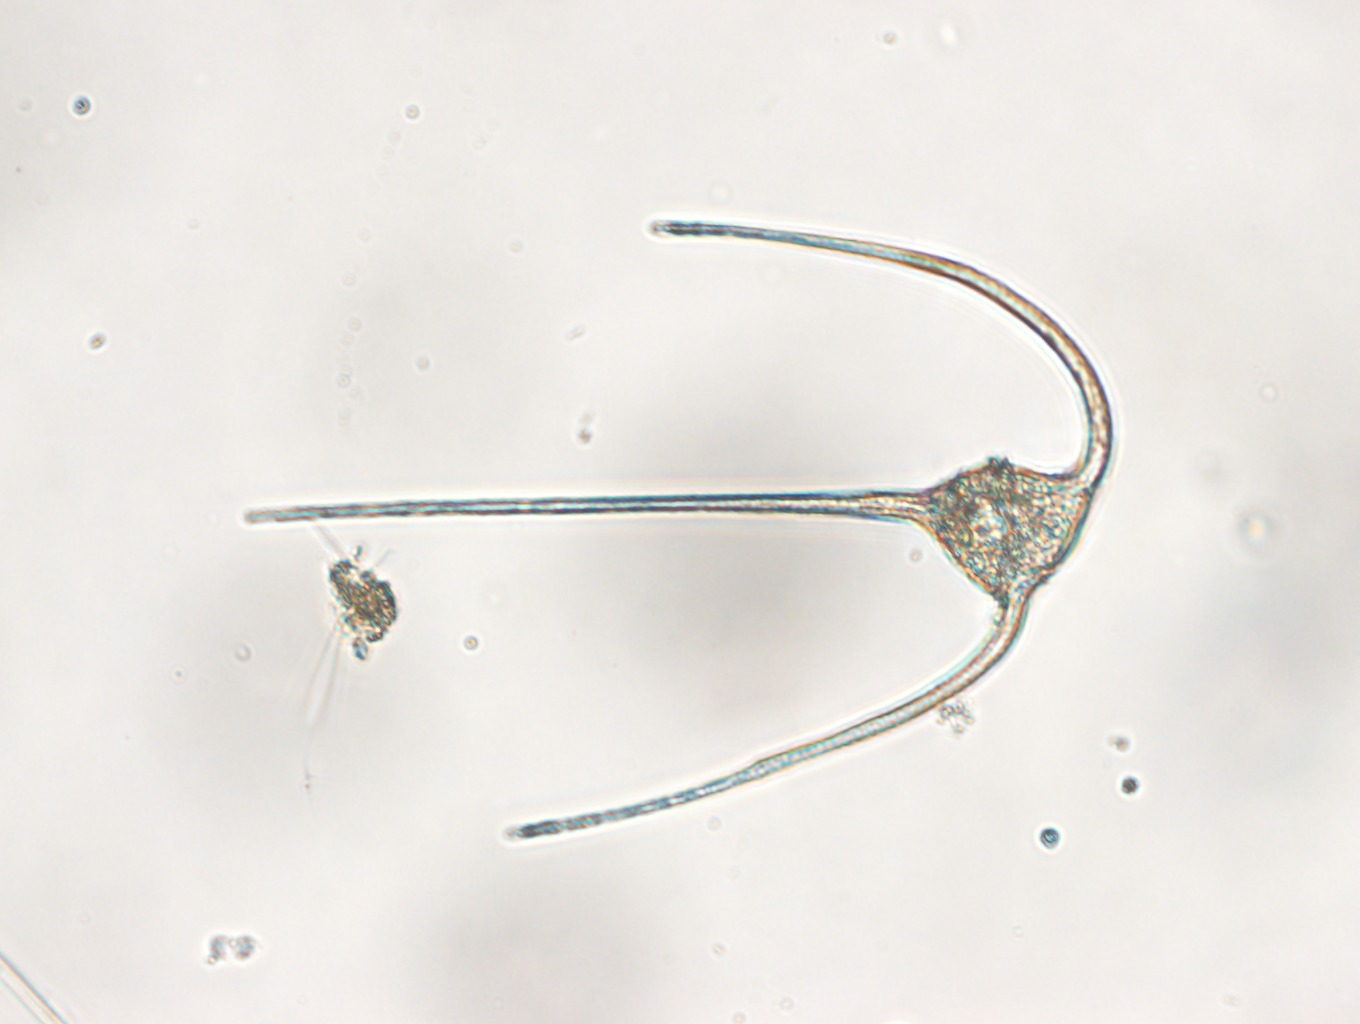ceratium trichoceros: (244, 216, 1116, 844)
